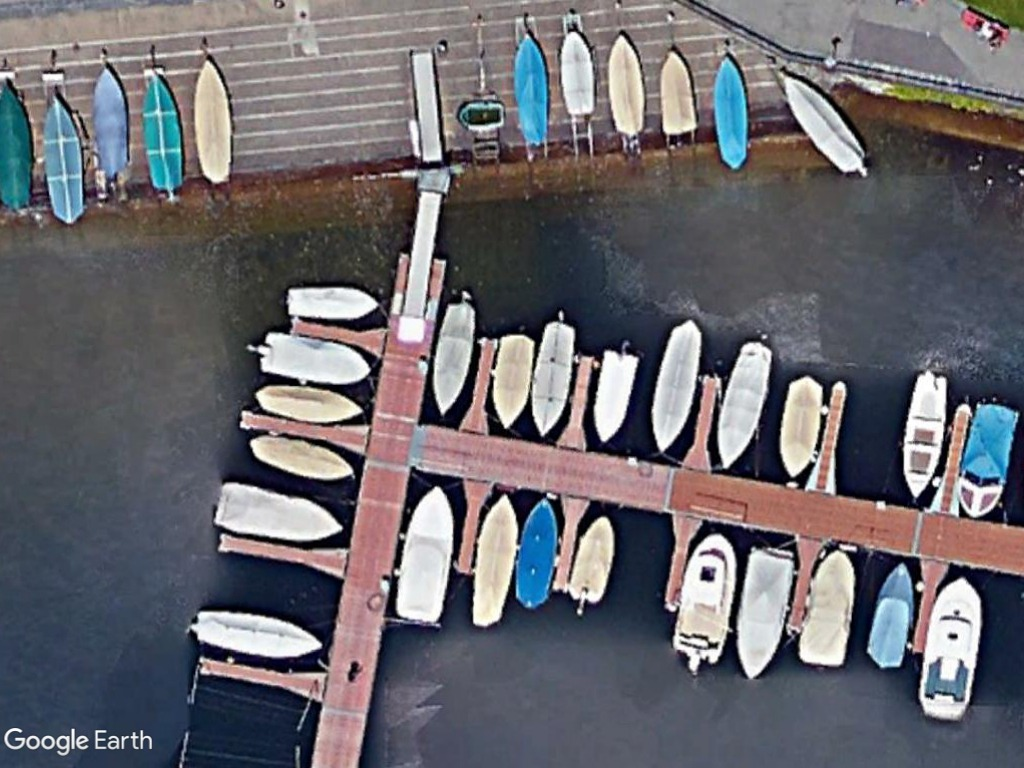boat: (663, 530, 747, 669), (775, 65, 873, 184), (915, 572, 985, 726), (391, 480, 456, 630), (730, 542, 799, 682), (210, 474, 348, 542), (645, 313, 710, 457), (792, 544, 860, 672), (713, 337, 775, 473), (188, 604, 324, 665), (38, 88, 95, 233), (955, 399, 1024, 517), (467, 491, 522, 633), (898, 366, 952, 507), (859, 556, 922, 675), (251, 326, 373, 387), (184, 54, 237, 190), (427, 296, 484, 421), (707, 48, 762, 175), (524, 314, 577, 444), (510, 490, 566, 613), (133, 68, 185, 197), (243, 431, 360, 487), (589, 341, 649, 449), (504, 31, 556, 155), (594, 30, 649, 141), (566, 507, 622, 610), (776, 373, 829, 481), (244, 378, 366, 423), (489, 327, 540, 433), (277, 278, 383, 326), (556, 25, 602, 122), (655, 48, 697, 141)
